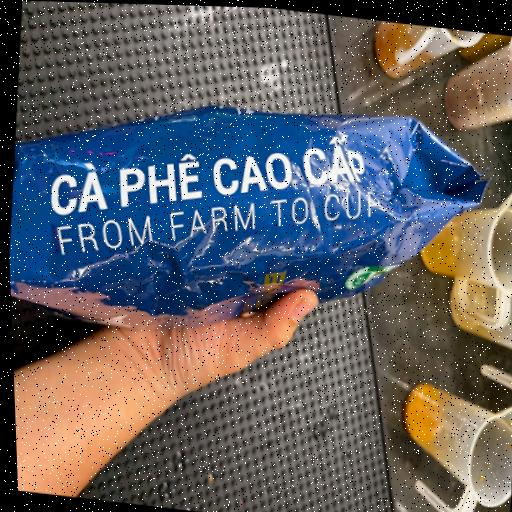cafe_hat: (2, 48, 512, 451)
